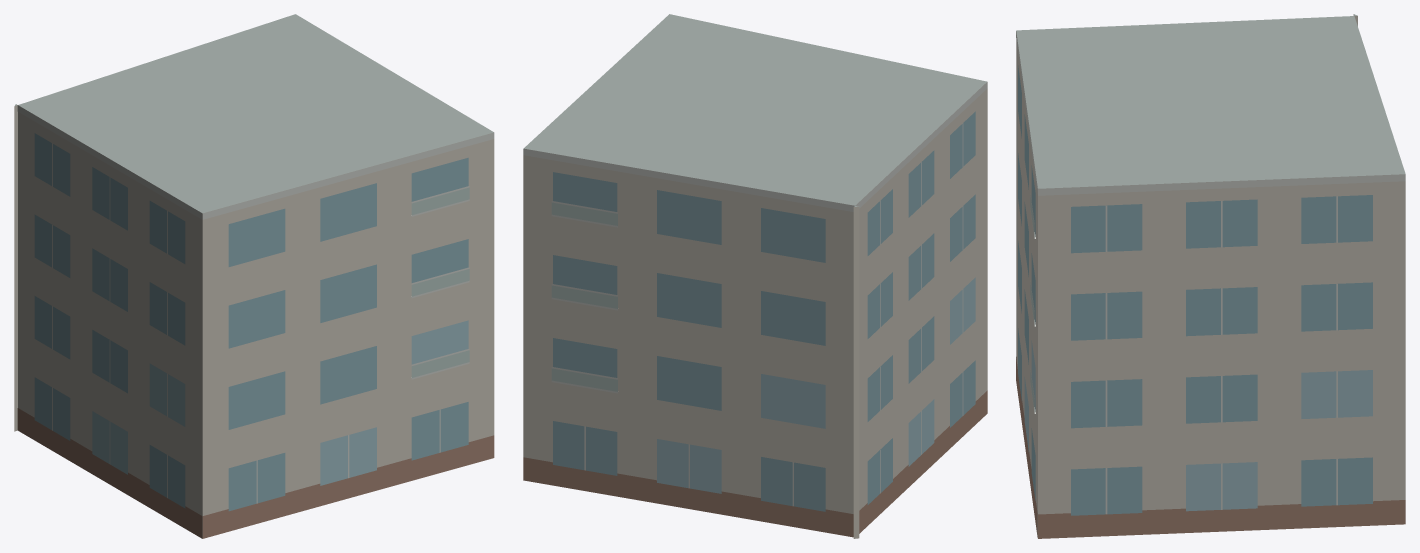
File: survey-upis-33016845.glb
The picture shows the model from 3 angles, left to right: view 1: azimuth 30°, elevation 25°; view 2: azimuth 150°, elevation 25°; view 3: azimuth 270°, elevation 25°; orthographic projection. The views are drawn at different scales.
Visible parts, largest first — view 1: survey-upis-33016845.tmp; view 2: survey-upis-33016845.tmp; view 3: survey-upis-33016845.tmp.
Part boxes in pixels (x1,y1,x2,y2): survey-upis-33016845.tmp: (14,14,494,538); survey-upis-33016845.tmp: (523,14,987,538); survey-upis-33016845.tmp: (1016,14,1405,538).
Size of the model in its own units: 13.07 by 12.2 by 12.31.
